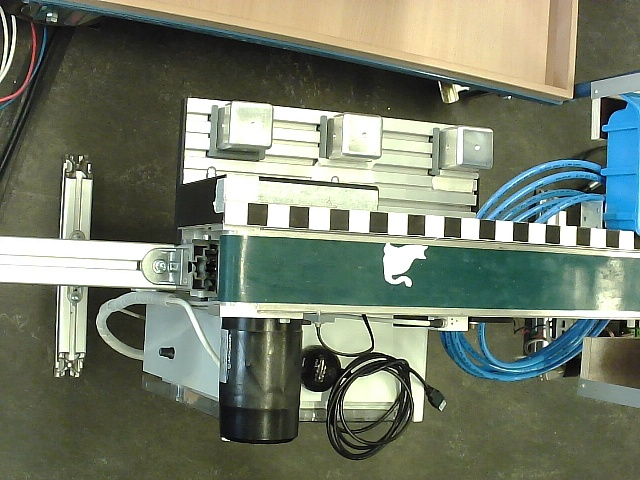cat: (383, 240, 428, 288)
